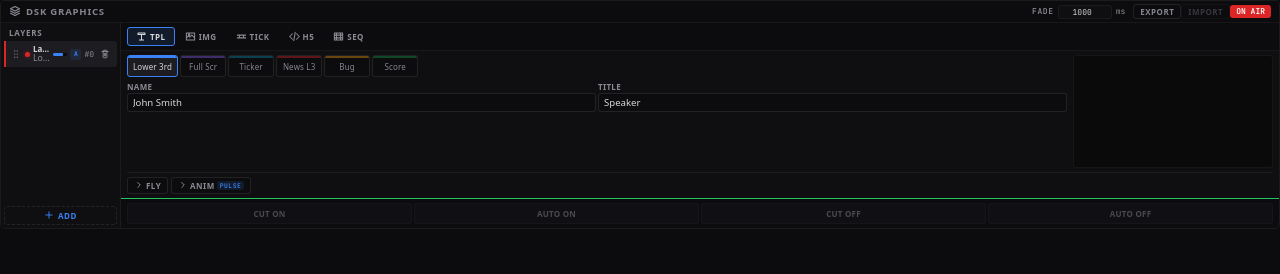
Test: GraphicsPanel › should show STOP button when animation is active
Note: Open anim disclosure
Click the button with class "disclosure" showing "ANIM pulse". click: (211, 185)
box: [171,176,251,194]
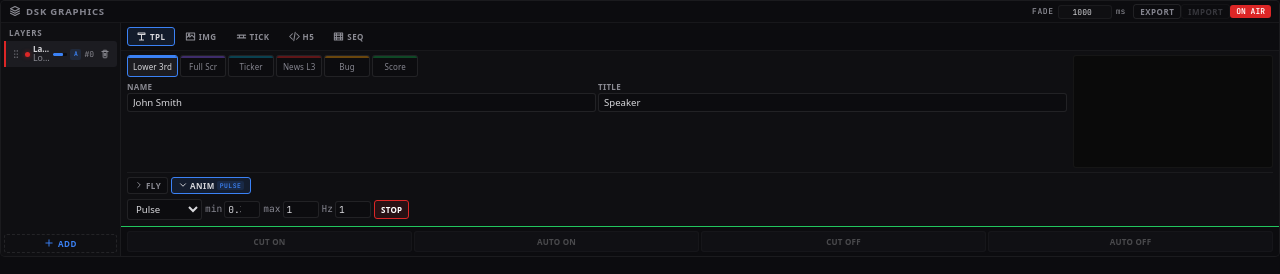
Result: the button with class "anim-stop" reads "STOP" at [374,200,409,218]
